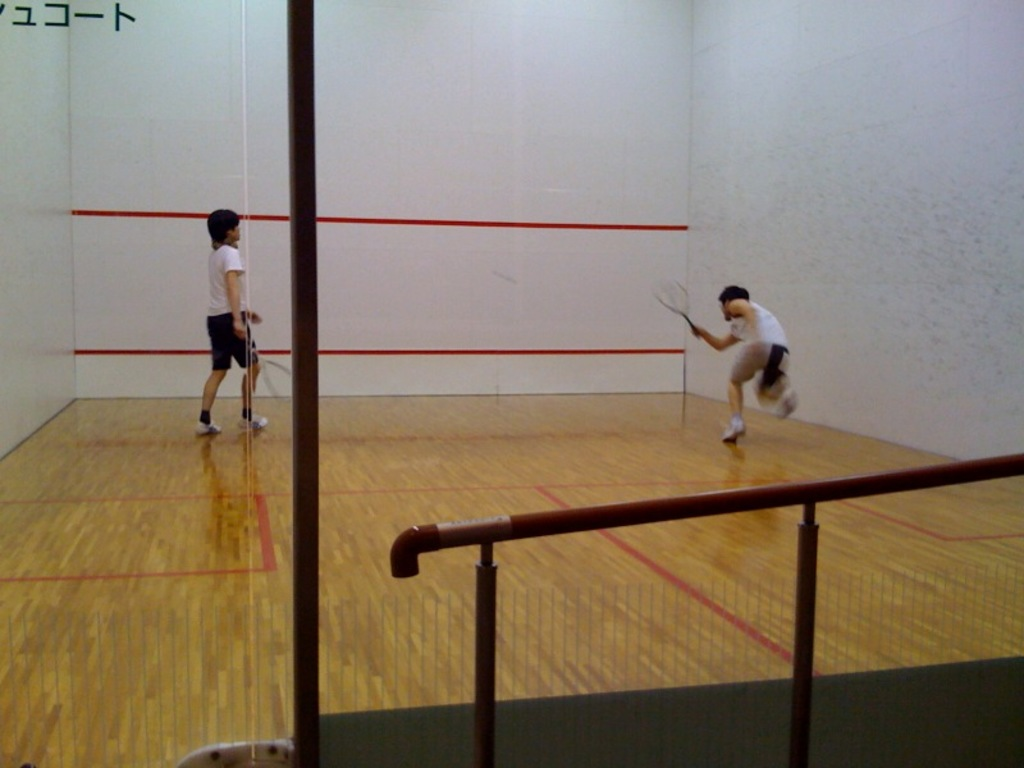Person: (691, 284, 797, 441), (197, 209, 268, 434)
